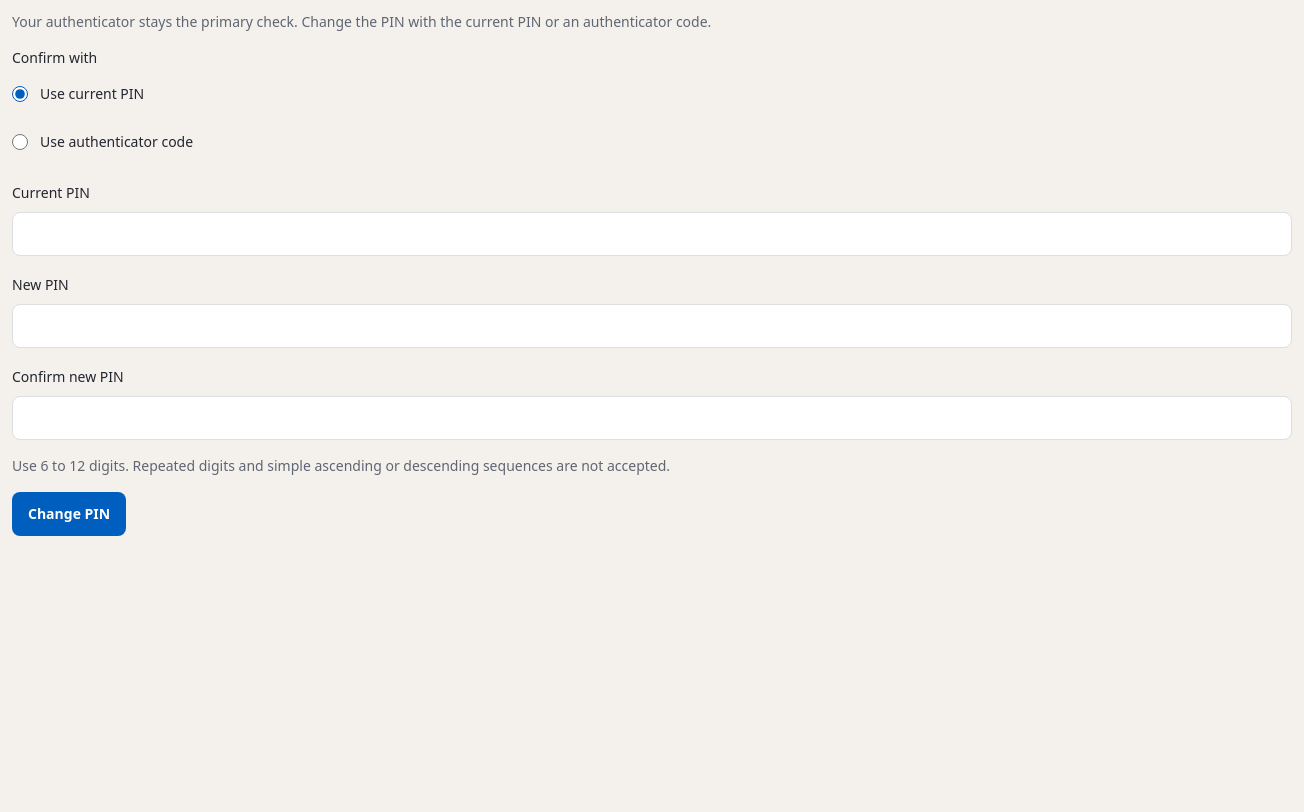
Beneficiary access PIN in My Profile › keeps one live region and marks, describes and focuses the invalid field
Type "482915" into the password field labelled "Current PIN" at (652, 234), box [12,212,1292,256]
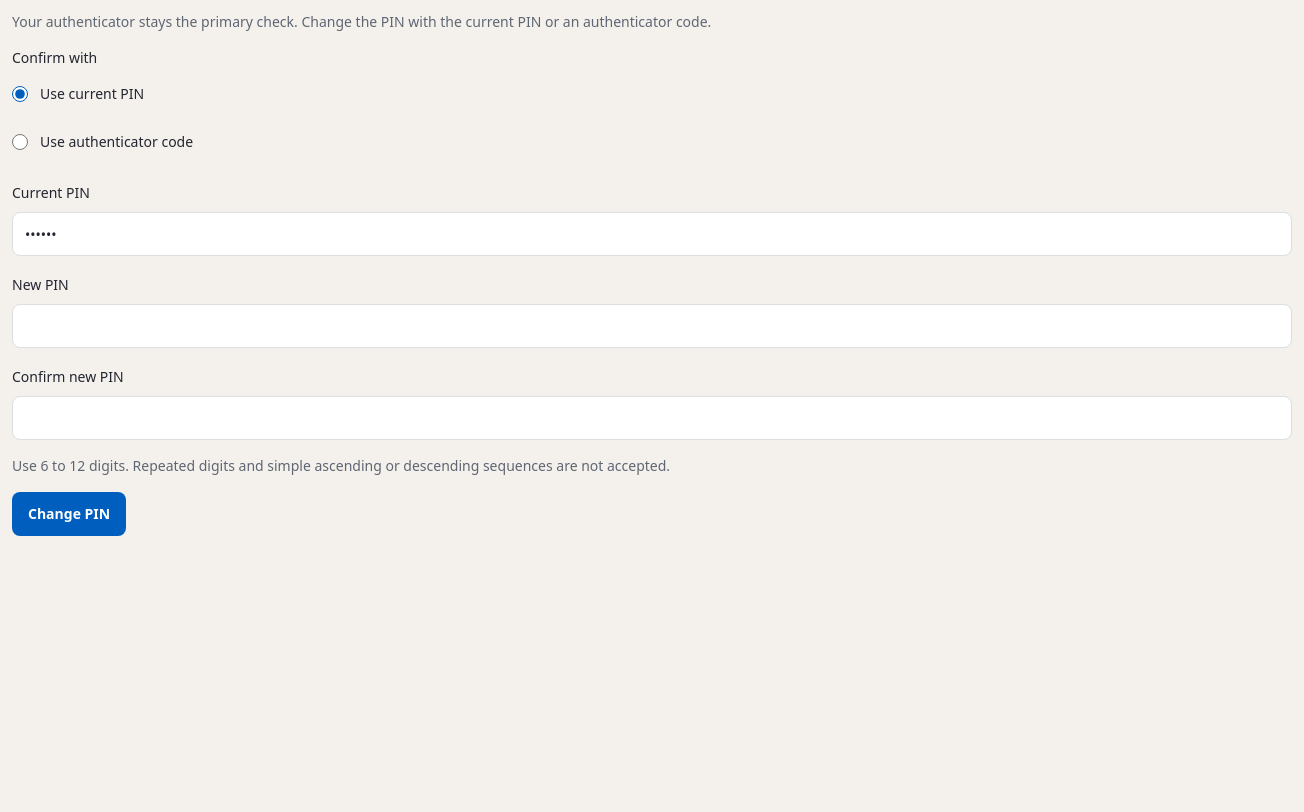
Type "529317" into the password field labelled "New PIN" at (652, 326), box [12,304,1292,348]
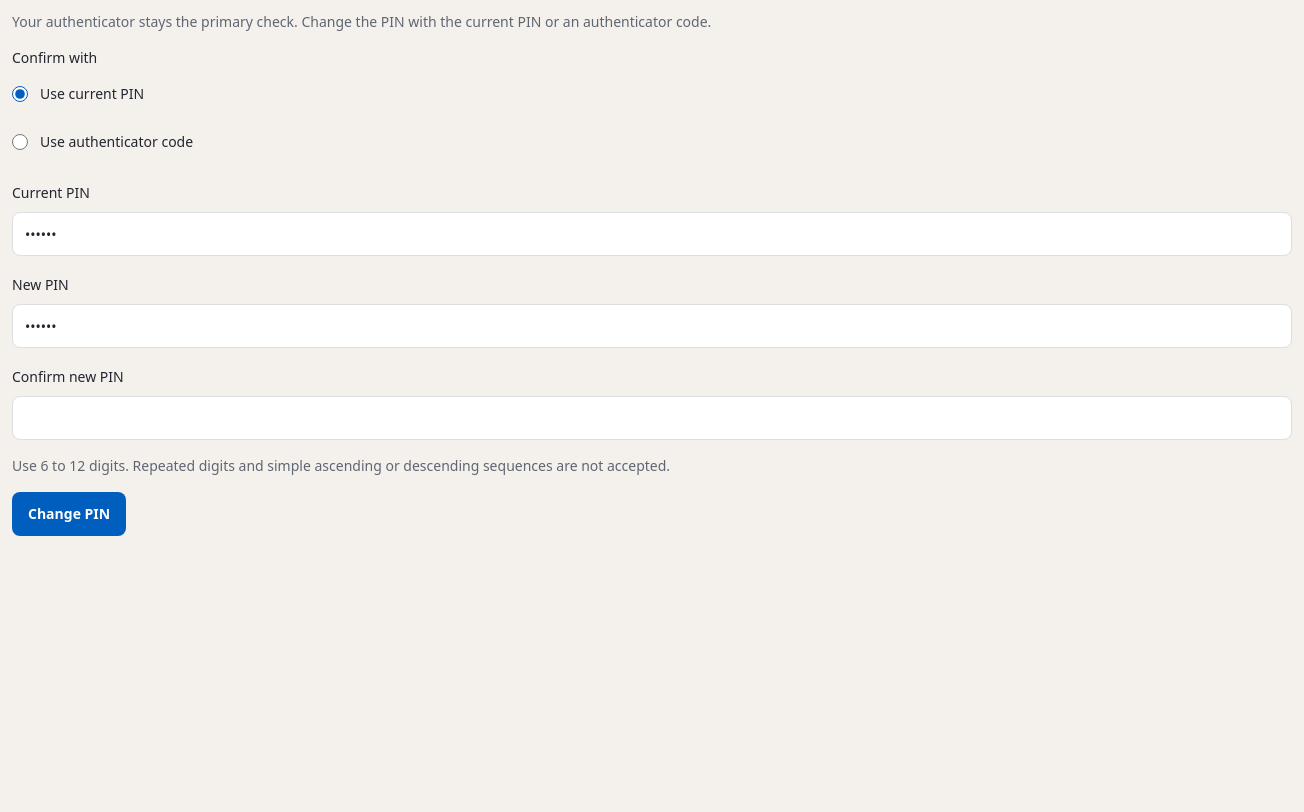
Type "529318" into the password field labelled "Confirm new PIN" at (652, 418), box [12,396,1292,440]
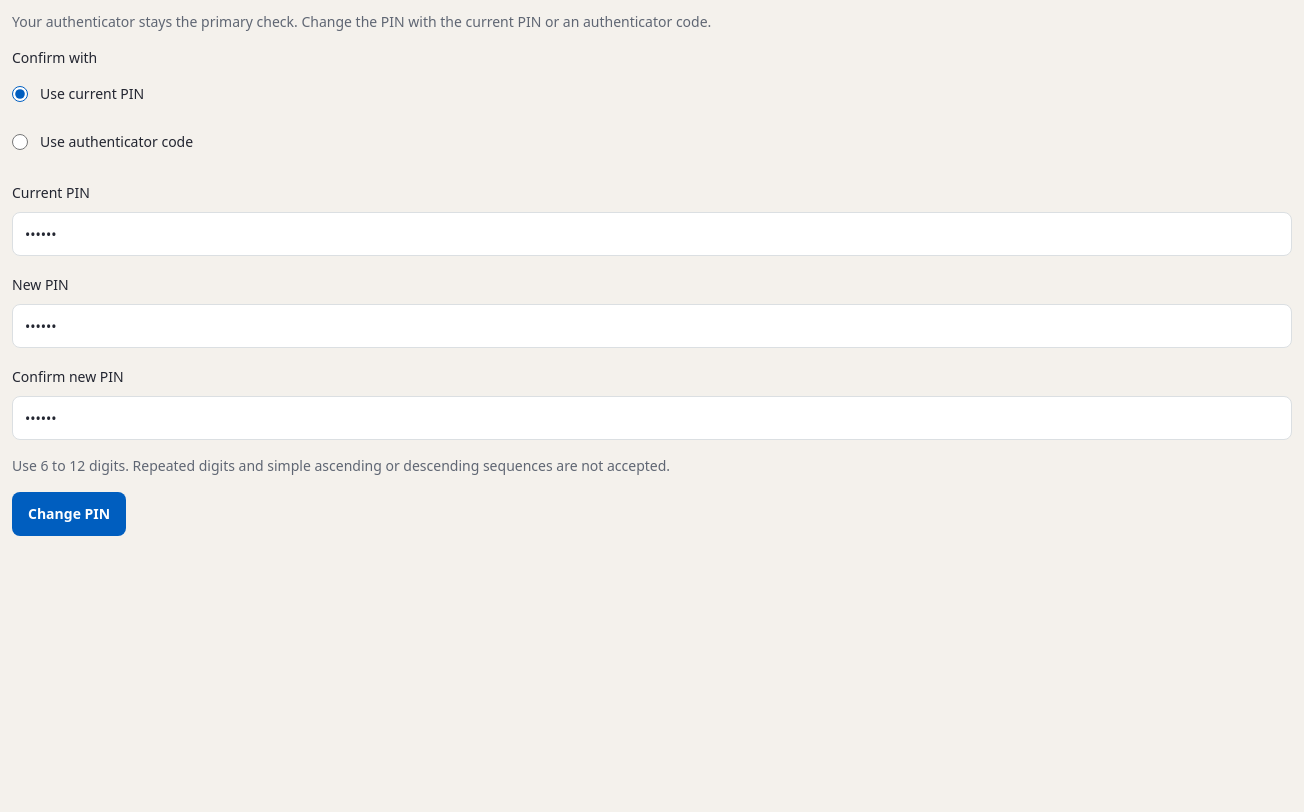
Click the button "Change PIN" at (69, 514), box [12,492,126,536]
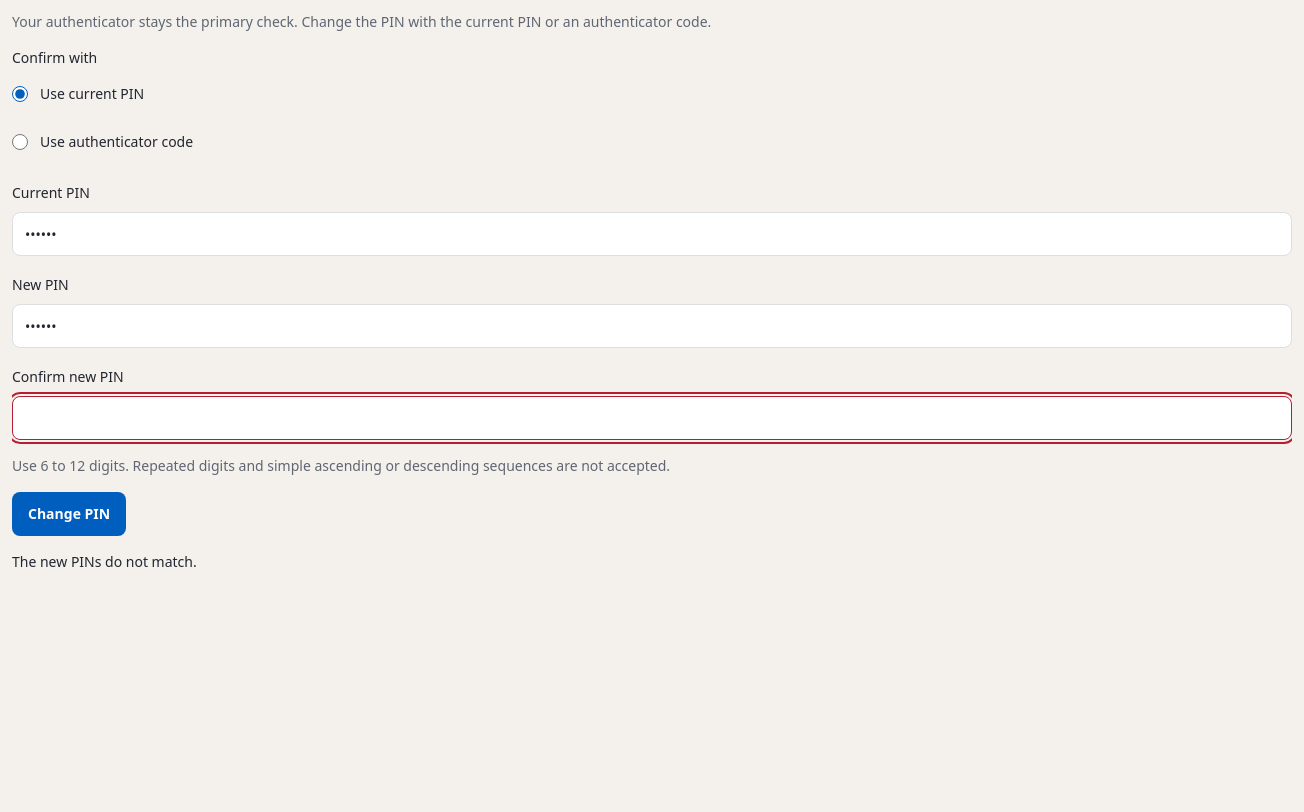
expect the password field labelled "Confirm new PIN" is empty: met
expect the text "The new PINs do not match." is shown: met, box [12,552,197,571]
Type "529317" into the password field labelled "Confirm new PIN" at (652, 418), box [12,396,1292,440]
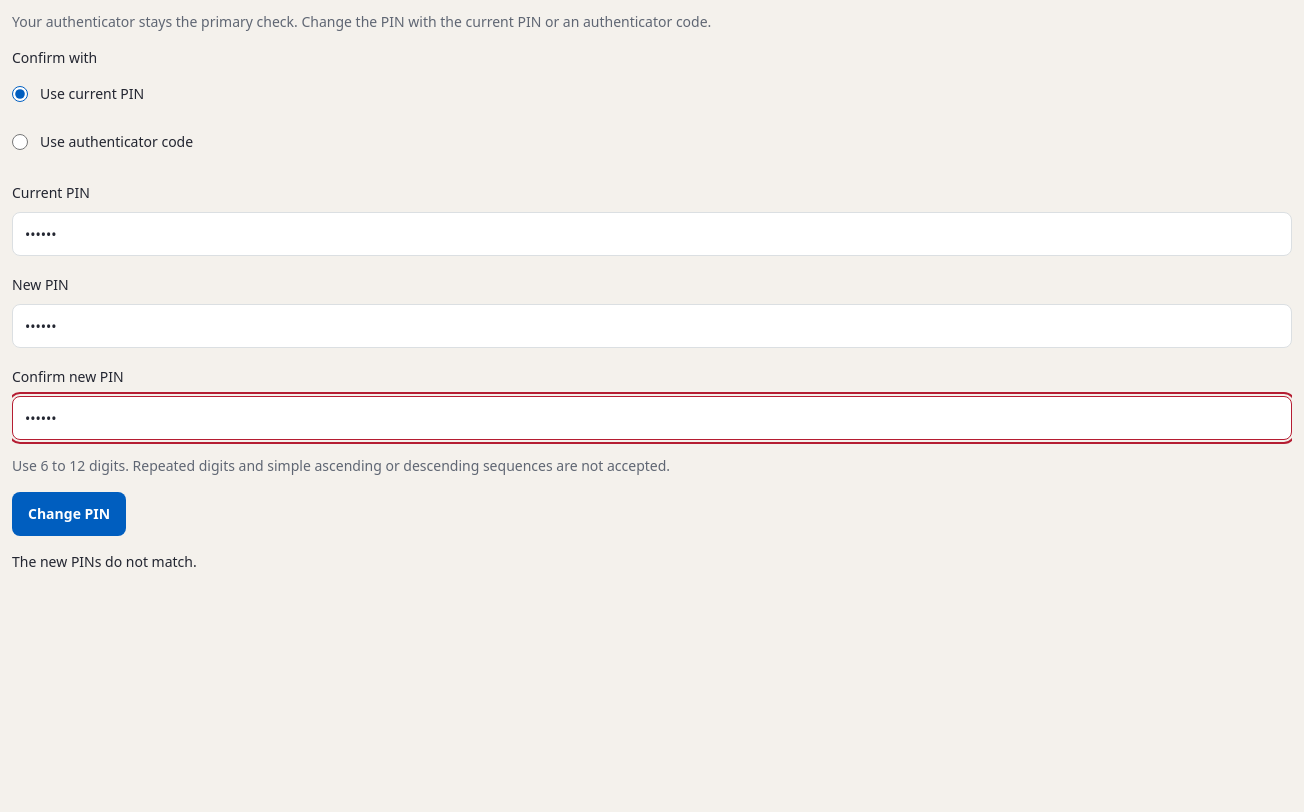
Click the button "Change PIN" at (69, 514), box [12,492,126,536]
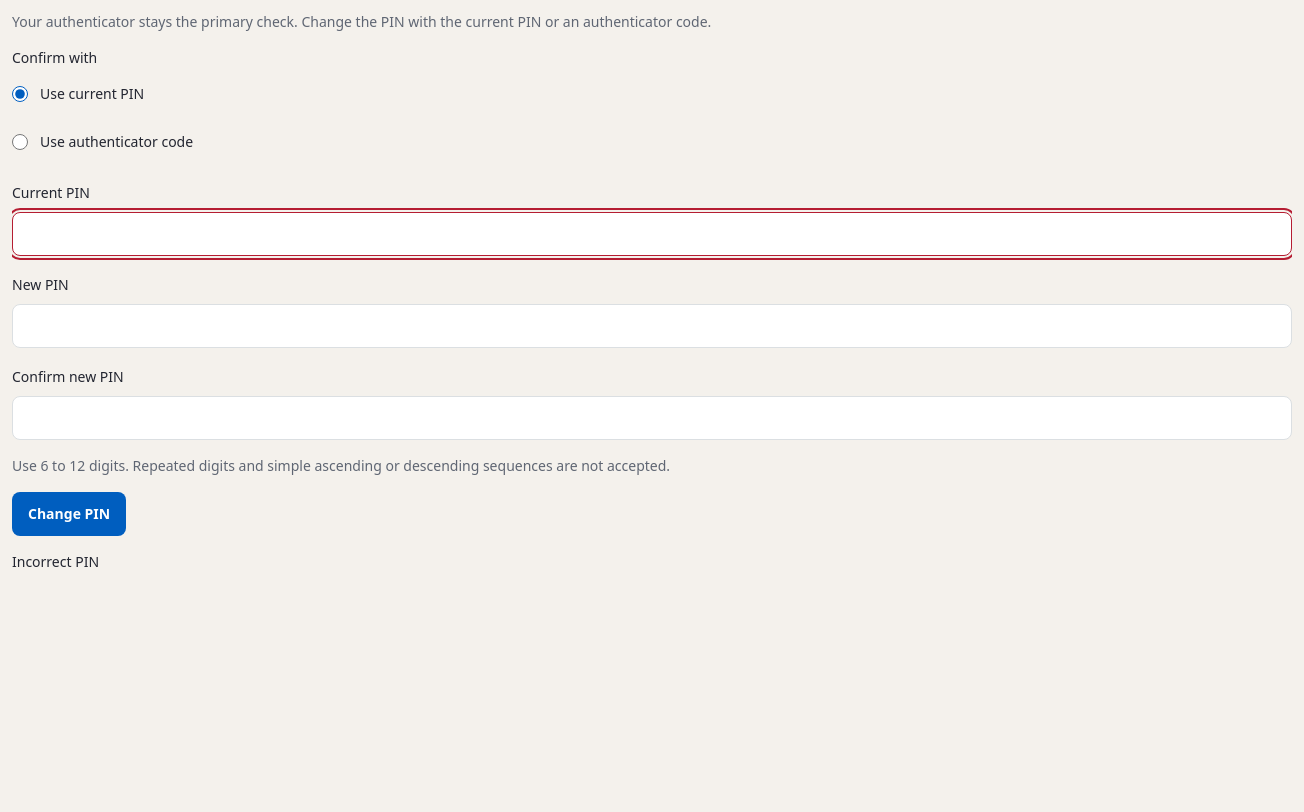
expect the text "Incorrect PIN" is shown: met, box [12,552,99,571]
